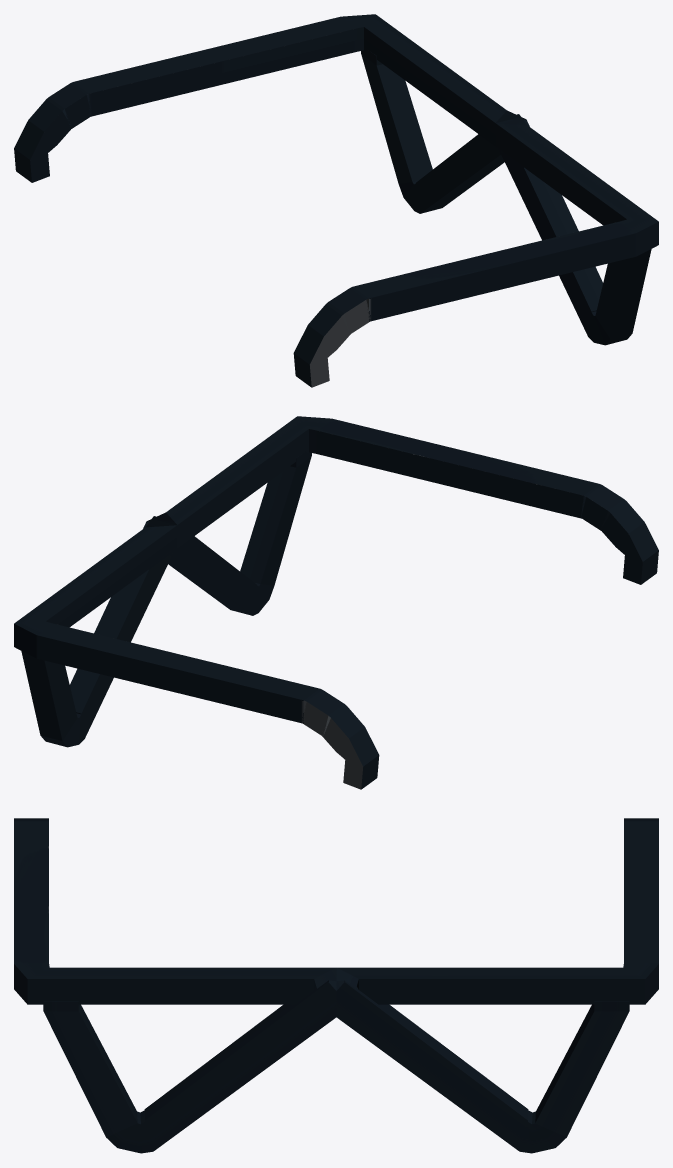
Rendered from extraFantasma.obj.
3 views of the same model, one above another, from view 1: azimuth 30°, elevation 25°; view 2: azimuth 150°, elevation 25°; view 3: azimuth 270°, elevation 25° (orthographic). The views are drawn at different scales.
Visible parts, largest first — view 1: Gafas; view 2: Gafas; view 3: Gafas.
Part boxes in pixels (box(x1,y1,x2,y2)): Gafas: box(14, 14, 658, 387); Gafas: box(14, 416, 658, 789); Gafas: box(14, 818, 658, 1153).
Bounding box in the file's own units: 1.54 × 0.6284 × 2.16.
Materials: 1 (1 with a texture image).
